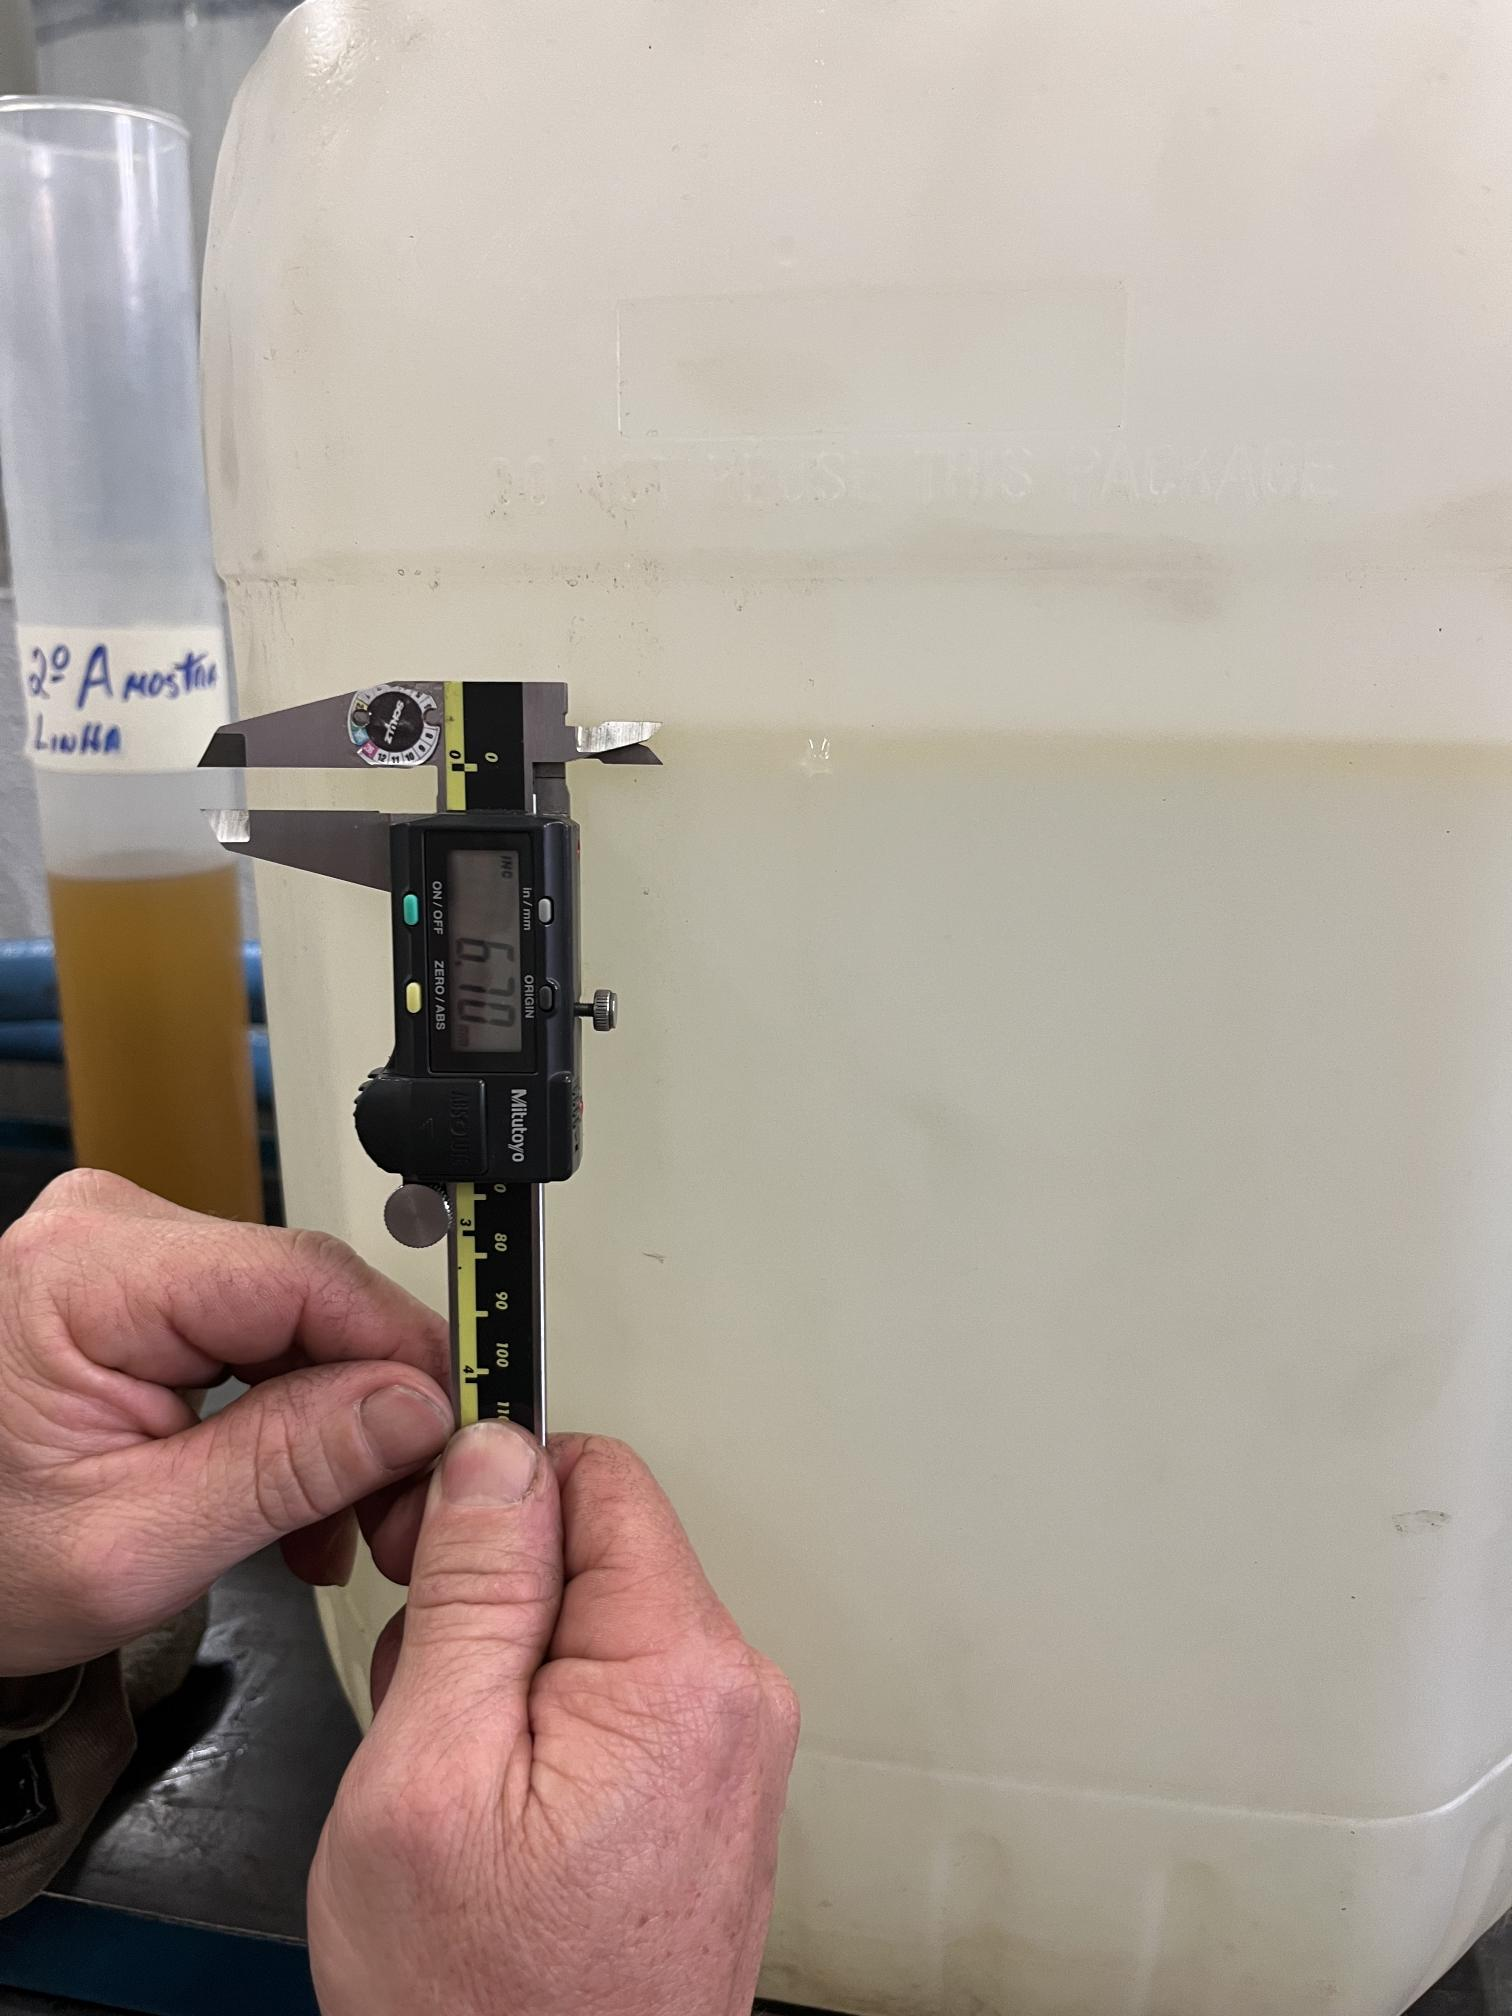Presenca de Oleo - - 30ml: (727, 652, 1464, 862)
